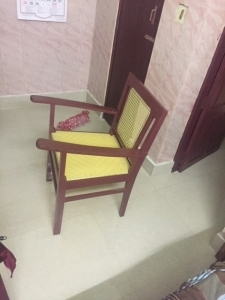chair: (29, 72, 169, 235)
